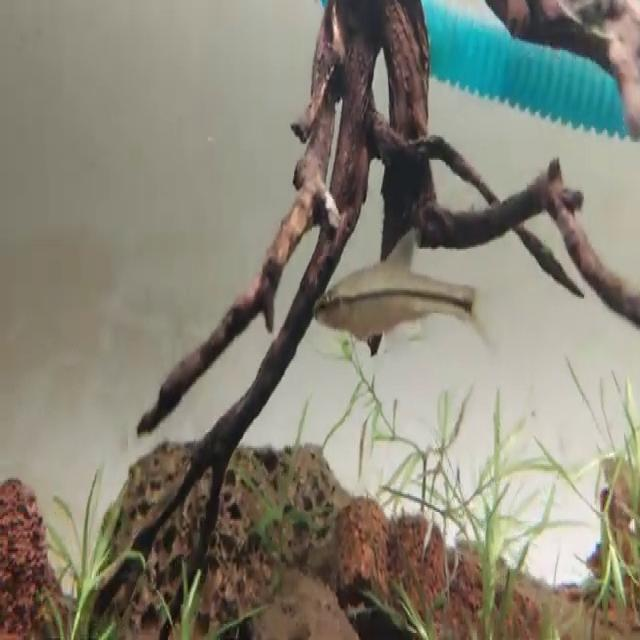Cakil Baligi: (311, 227, 494, 355)
